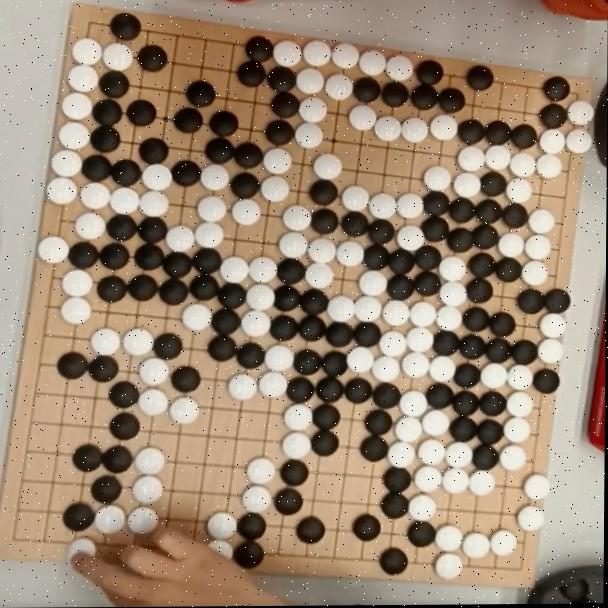corners: (73, 0, 106, 48), (558, 77, 599, 111), (0, 514, 31, 557), (509, 549, 537, 583)
